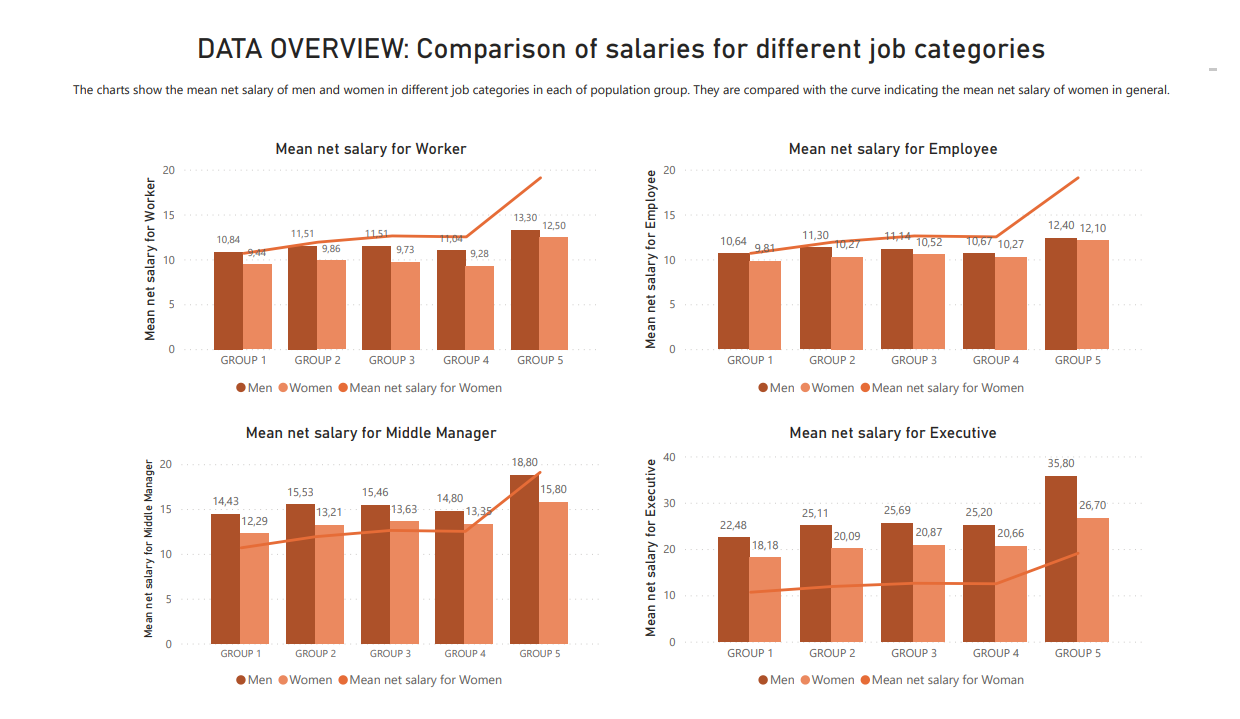

What the dashboard file says about the page in this screenshot:
{"tool":"powerbi","page":{"name":"Page 2","canvas":[1280,720],"ordinal":2},"visuals":[{"type":"lineClusteredColumnComboChart","title":"Mean net salary for Worker","fields":{"Category":["mean net in different jobs and ages for women and men.GROUP"],"Y":["Sum(mean net in different jobs and ages for women and men.M - WORKER)","Sum(mean net in different jobs and ages for women and men.W - WORKER)"],"Y2":["Sum(mean net in different jobs and ages for women and men.WOMEN)"]},"box":[124.5,124.5,497,283],"z":0},{"type":"lineClusteredColumnComboChart","title":"Mean net salary for Employee","fields":{"Category":["mean net in different jobs and ages for women and men.GROUP"],"Y":["Sum(mean net in different jobs and ages for women and men.M - EMPLOYEE)","Sum(mean net in different jobs and ages for women and men.W - EMPLOYEE)"],"Y2":["Sum(mean net in different jobs and ages for women and men.WOMEN)"]},"box":[657.5,124.5,544.7,283],"z":1000},{"type":"lineClusteredColumnComboChart","title":"Mean net salary for Middle Manager","fields":{"Y":["Sum(mean net in different jobs and ages for women and men.M - MIDDLE MANAGER)","Sum(mean net in different jobs and ages for women and men.W - MIDDLE MANAGER)"],"Category":["mean net in different jobs and ages for women and men.GROUP"],"Y2":["Sum(mean net in different jobs and ages for women and men.WOMEN)"]},"box":[124.5,427,497,292.8],"z":2000},{"type":"lineClusteredColumnComboChart","title":"Mean net salary for Executive","fields":{"Category":["mean net in different jobs and ages for women and men.GROUP"],"Y":["Sum(mean net in different jobs and ages for women and men.M - EXECUTIVE)","Sum(mean net in different jobs and ages for women and men.W - EXECUTIVE)"],"Y2":["Sum(mean net in different jobs and ages for women and men.WOMEN)"]},"box":[657.5,427,544.7,292.8],"z":3000},{"type":"textbox","box":[0,57.4,1280,34],"z":4000},{"type":"textbox","title":"DATA OVERVIEW: Comparison of salaries for different job categories","box":[0,9.7,1280,47.7],"z":5000}]}

Visuals, with their boxes in screenshot pixels (x1, y1, x2, y2), scaled from the page's 1280x720 canvas onto the 1240x719 screenshot:
"Mean net salary for Worker" lineClusteredColumnComboChart: [x1=121, y1=124, x2=602, y2=407]
"Mean net salary for Employee" lineClusteredColumnComboChart: [x1=637, y1=124, x2=1165, y2=407]
"Mean net salary for Middle Manager" lineClusteredColumnComboChart: [x1=121, y1=426, x2=602, y2=718]
"Mean net salary for Executive" lineClusteredColumnComboChart: [x1=637, y1=426, x2=1165, y2=718]
textbox: [x1=0, y1=57, x2=1239, y2=91]
"DATA OVERVIEW: Comparison of salaries for different job categories" textbox: [x1=0, y1=10, x2=1239, y2=57]
